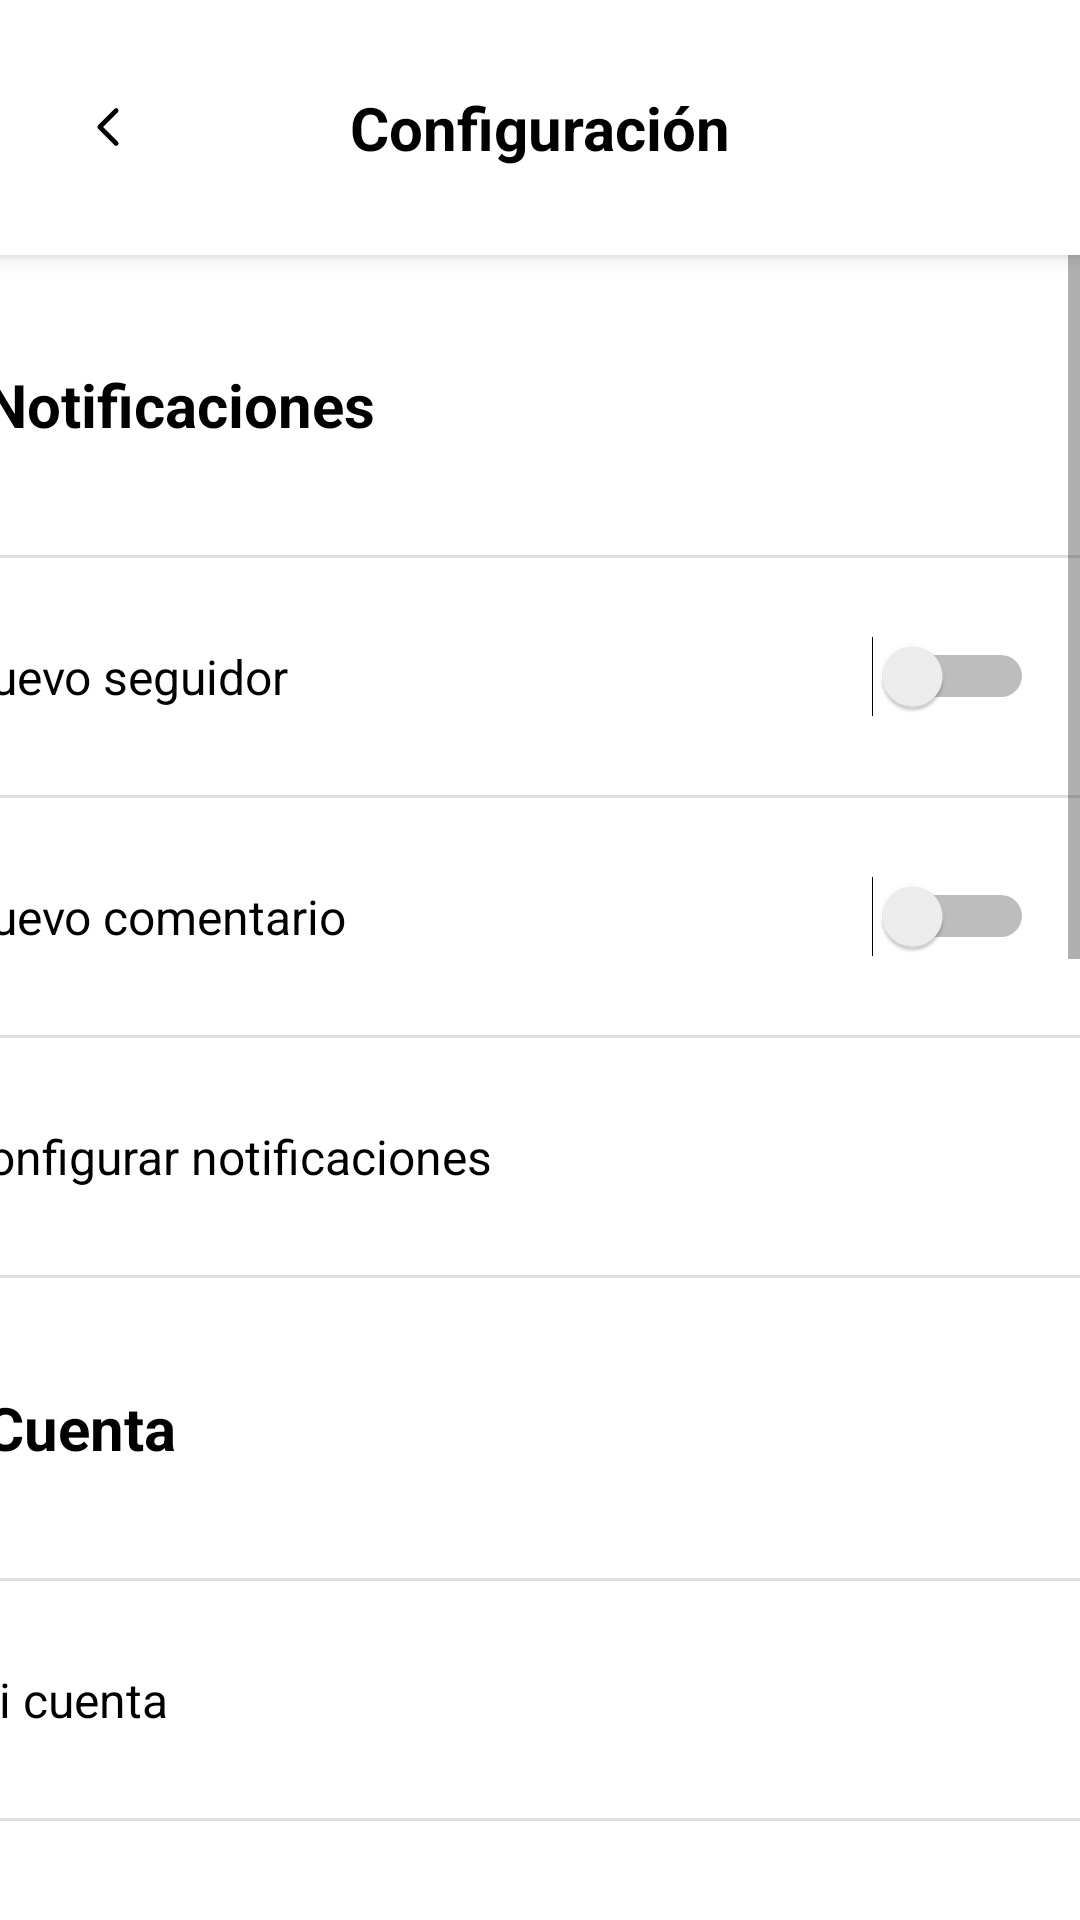

Named icons in this screenshot (1080*1920) and their centers, (x=x, y=y):
Atrás: (x=108, y=127)
